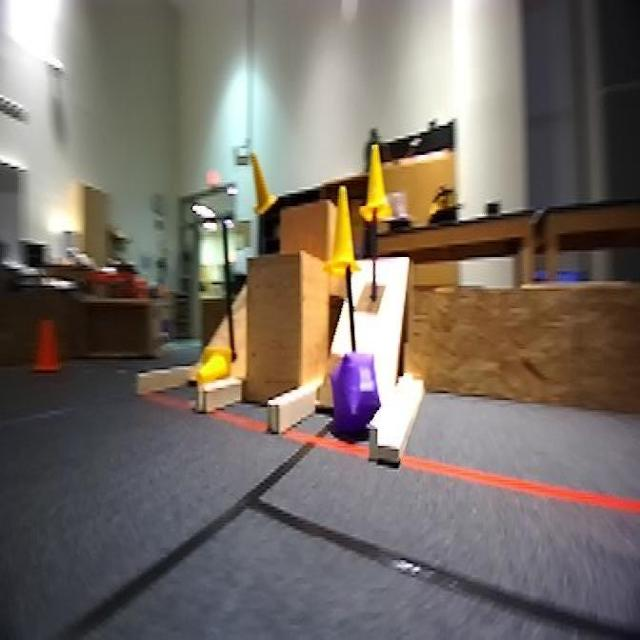frc_cone: (326, 184, 361, 269), (359, 145, 392, 223), (251, 150, 277, 214), (196, 347, 234, 390)
frc_cube: (328, 351, 384, 432)
